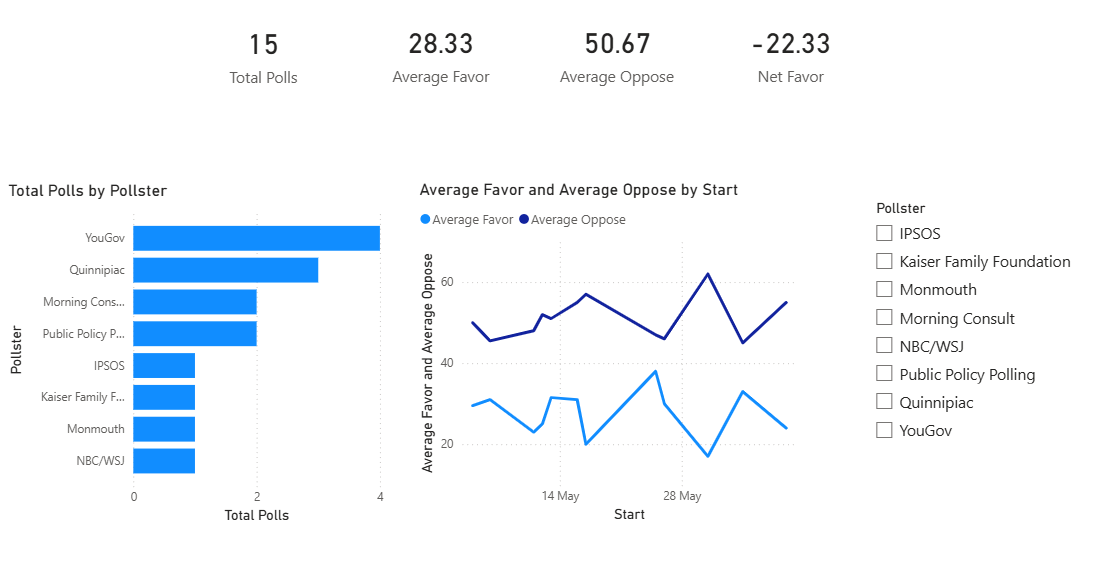

The dashboard page shown, as its layout file describes it:
{"tool":"powerbi","page":{"name":"Page 1","canvas":[1200,700],"ordinal":0},"visuals":[{"type":"card","fields":{"Values":["ahca_polls.Total Polls"]},"box":[221.3,60.5,180.1,177.5],"z":0},{"type":"card","fields":{"Values":["ahca_polls.Average Favor"]},"box":[401.4,60.5,185.2,176.2],"z":1000},{"type":"card","fields":{"Values":["ahca_polls.Average Oppose"]},"box":[587.2,60.9,177,175.6],"z":2000},{"type":"card","fields":{"Values":["ahca_polls.Net Favor"]},"box":[764.2,60.9,179.8,175.6],"z":3000},{"type":"clusteredBarChart","fields":{"Y":["ahca_polls.Total Polls"],"Category":["ahca_polls.Pollster"]},"box":[43.9,279.9,396.6,358.1],"z":4000},{"type":"lineChart","fields":{"Y":["ahca_polls.Average Favor","ahca_polls.Average Oppose"],"Category":["ahca_polls.Start"]},"box":[466.6,278.6,407.5,358.1],"z":5000},{"type":"slicer","fields":{"Values":["ahca_polls.Pollster"]},"box":[928.8,295.9,247,280.4],"z":6000}]}

Visuals, with their boxes on the page's 1200x700 design canvas (x1, y1, x2, y2). These are canvas units, not pixel positions in the 1106x563 screenshot, which may show the page scaled, cropped or inside an application window:
card - ahca_polls.Total Polls: 221, 60, 401, 238
card - ahca_polls.Average Favor: 401, 60, 587, 237
card - ahca_polls.Average Oppose: 587, 61, 764, 236
card - ahca_polls.Net Favor: 764, 61, 944, 236
clusteredBarChart - ahca_polls.Total Polls x ahca_polls.Pollster: 44, 280, 440, 638
lineChart - ahca_polls.Average Favor x ahca_polls.Average Oppose: 467, 279, 874, 637
slicer - ahca_polls.Pollster: 929, 296, 1176, 576
